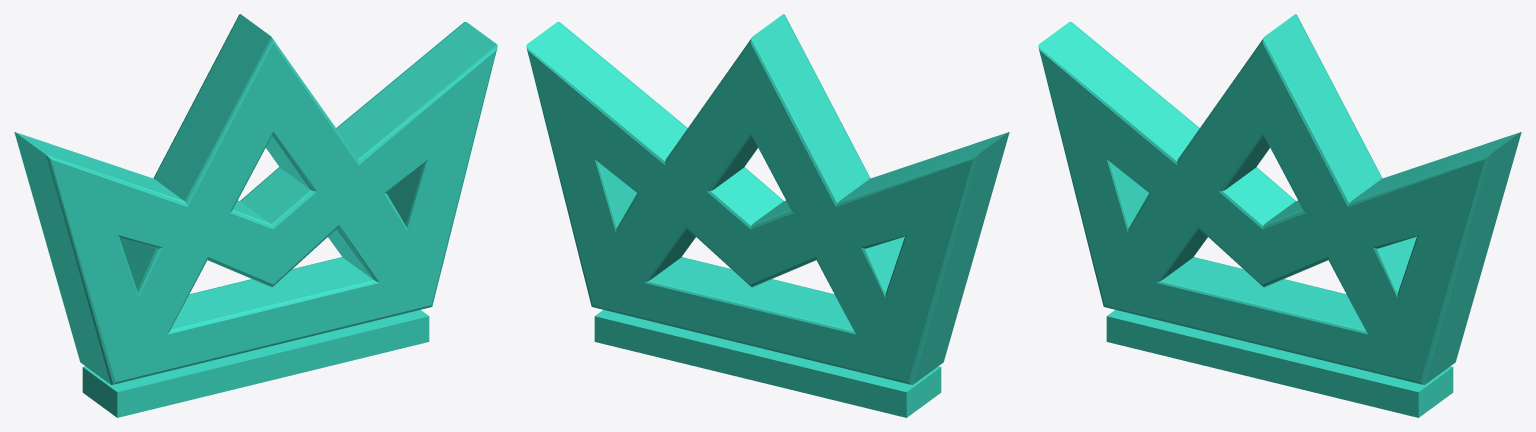
The model's file is amware-crown.glb.
The picture shows the model from 3 angles, left to right: view 1: azimuth 30°, elevation 25°; view 2: azimuth 150°, elevation 25°; view 3: azimuth 330°, elevation 25°; orthographic projection.
Parts seen in each view (by area): view 1: crown_body, base_bar; view 2: crown_body, base_bar; view 3: crown_body, base_bar.
Part boxes in pixels (x1,y1,x2,y2): crown_body: [14, 14, 497, 384]; base_bar: [82, 310, 429, 417]; crown_body: [526, 14, 1009, 384]; base_bar: [594, 310, 941, 417]; crown_body: [1038, 14, 1521, 384]; base_bar: [1106, 310, 1453, 417].
Bounding box in the file's own units: 2.03 × 1.47 × 0.27.
